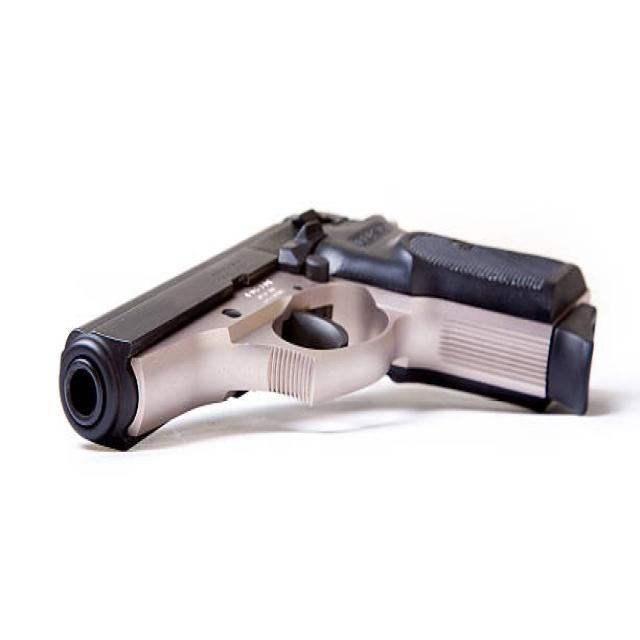pistol: (61, 199, 608, 457)
